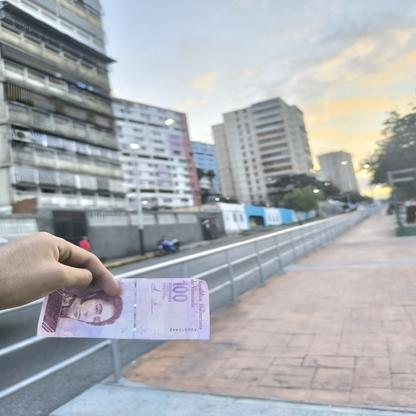one_hundred-front-vef: (37, 278, 210, 340)
